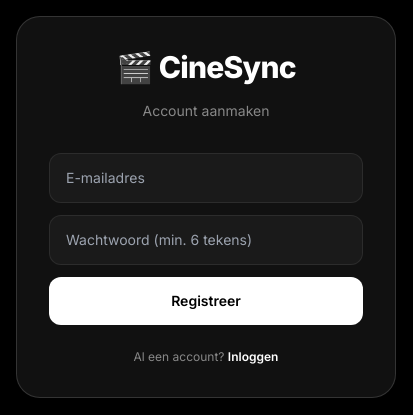
Test: Register page › shows email confirmation screen after successful registration
Type "newuser@example.com" into the field with placeholder "E-mailadres" at (206,178), box [49,153,363,203]
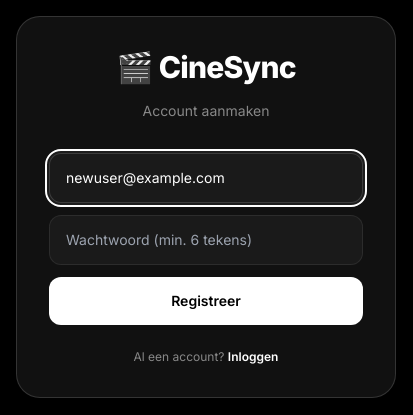
Type "password123" into the password field with placeholder "Wachtwoord (min. 6 tekens)" at (206,240), box [49,215,363,265]
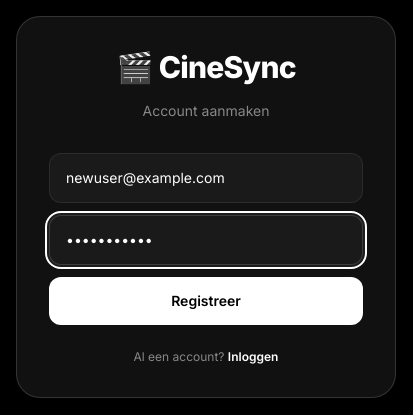
Click the button "Registreer" at (206,301), box [49,277,363,325]
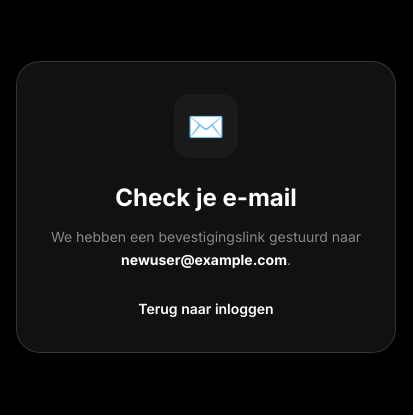
Expected: the heading "Check je e-mail" is shown, [115,183,297,212]
Expected: the text "newuser@example.com" is shown, [121,251,287,268]
